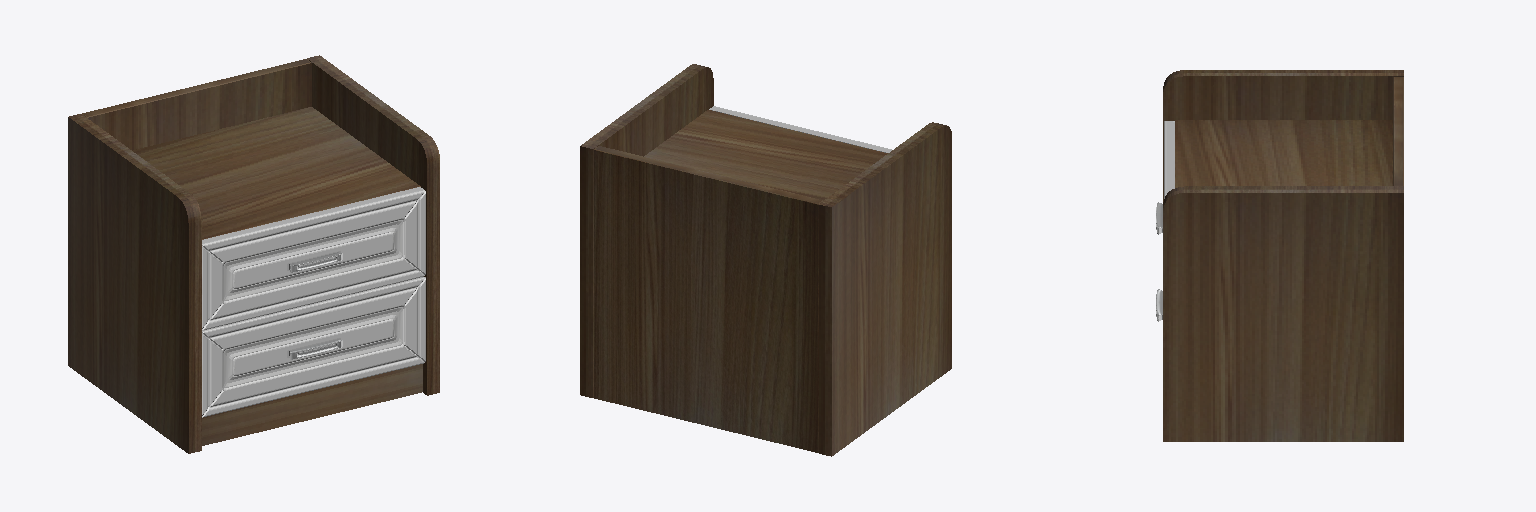
3 renders of one model, left to right at view 1: azimuth 30°, elevation 25°; view 2: azimuth 150°, elevation 25°; view 3: azimuth 270°, elevation 25°, orthographic.
Parts seen in each view (by area): view 1: solid_003, solid_001, solid_002; view 2: solid_003, solid_001; view 3: solid_003, solid_001.
Part boxes in pixels (left/top/right/bottom): solid_003: left=68, top=55, right=439, bottom=453; solid_001: left=202, top=187, right=425, bottom=417; solid_002: left=289, top=252, right=342, bottom=359; solid_003: left=580, top=64, right=951, bottom=456; solid_001: left=709, top=106, right=891, bottom=152; solid_003: left=1163, top=70, right=1403, bottom=441; solid_001: left=1164, top=121, right=1174, bottom=198.
Bounding box in the file's own units: 1.38 × 1.31 × 1.18.
Materials: 1 (1 with a texture image).